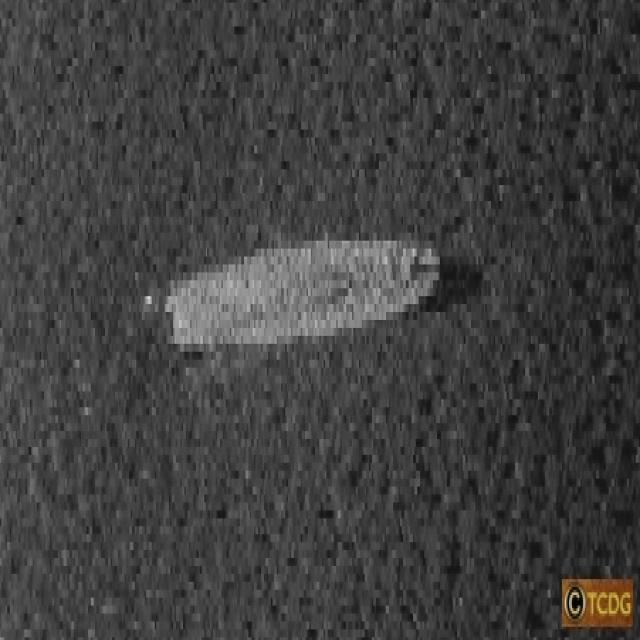ship: (163, 230, 443, 333)
